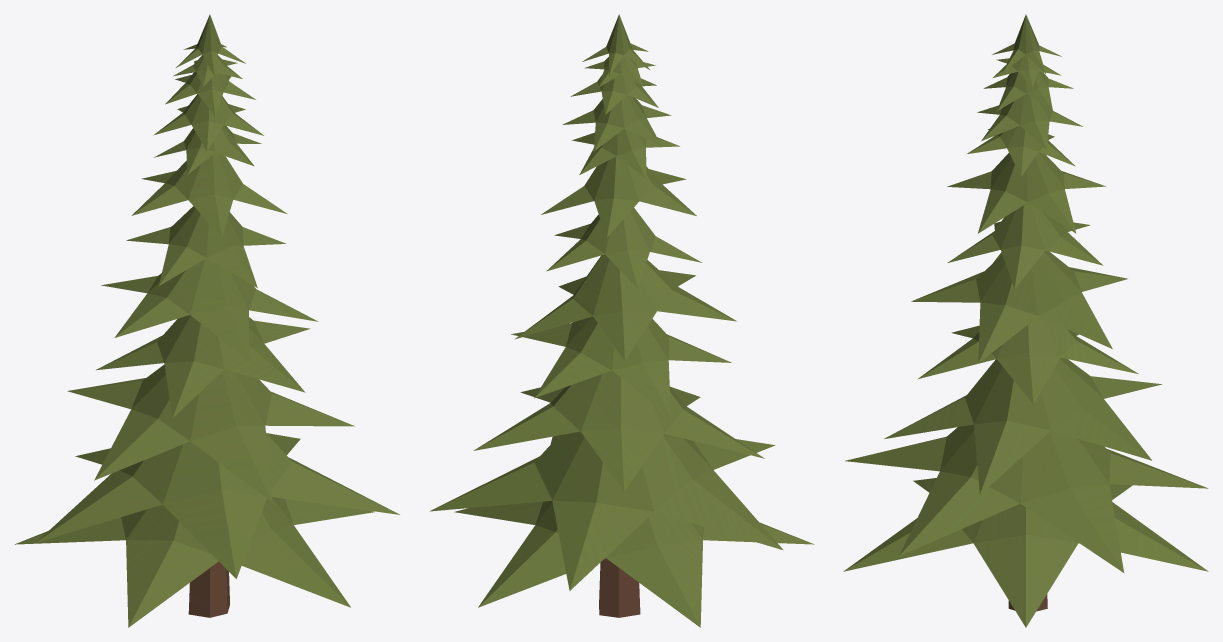
File: Tree_2.fbx
The picture shows the model from 3 angles, left to right: view 1: azimuth 30°, elevation 25°; view 2: azimuth 150°, elevation 25°; view 3: azimuth 270°, elevation 25°; orthographic projection.
Parts seen in each view (by area): view 1: polySurface10425; view 2: polySurface10425; view 3: polySurface10425.
Part boxes in pixels (x1,y1,x2,y2): polySurface10425: (15, 14, 399, 627); polySurface10425: (429, 14, 814, 627); polySurface10425: (843, 14, 1208, 627).
Size of the model in its own units: 240 by 407 by 229.
